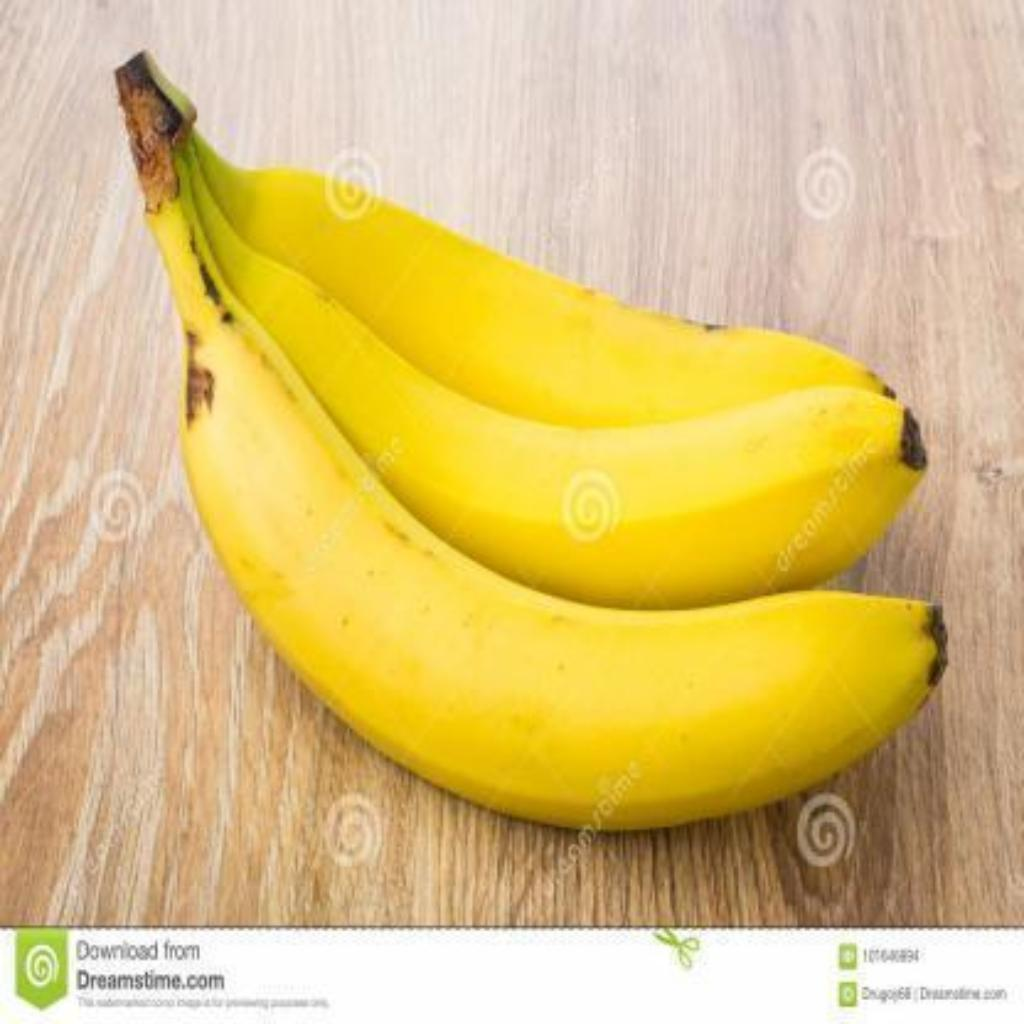banana: (121, 57, 945, 834)
